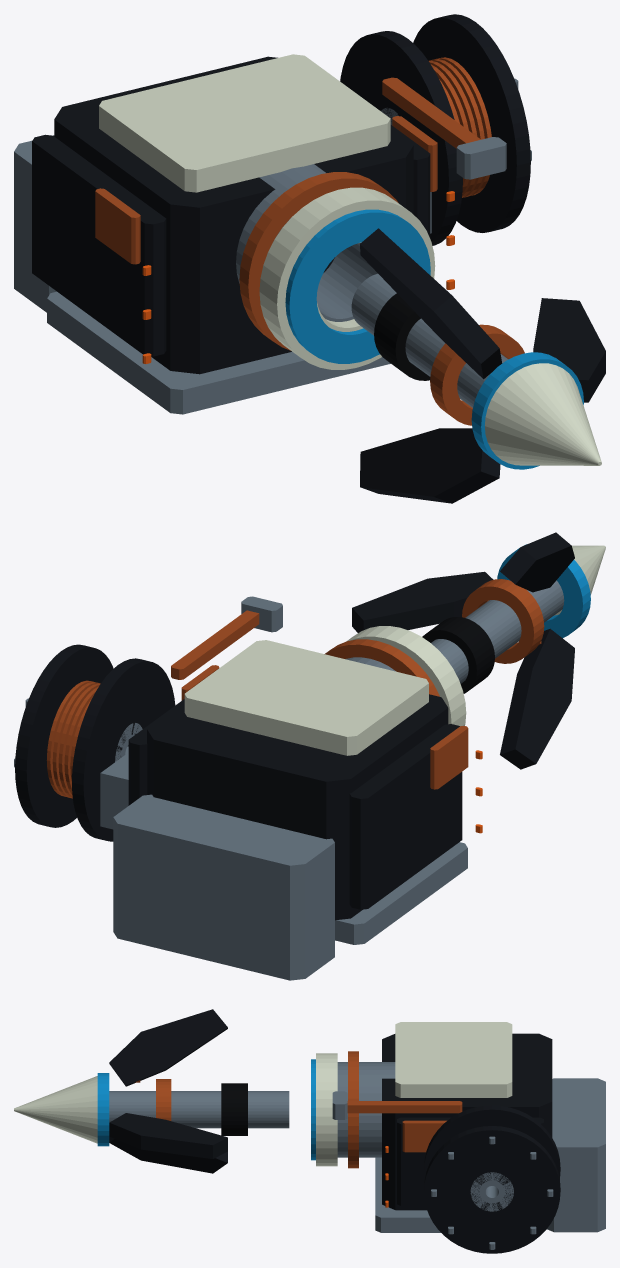
Rendered from M01-024_mechanical_anchor_harpoon.obj.
The picture shows the model from 3 angles, top to bottom: view 1: azimuth 30°, elevation 25°; view 2: azimuth 150°, elevation 25°; view 3: azimuth 270°, elevation 25°; orthographic projection. The views are drawn at different scales.
Visible parts, largest first — view 1: Receiver_Ceramic_Top, Receiver_Graphite_Core, Side_Armor_L, Receiver_Titanium_Bottom, Drum_Front_Flange, Harpoon_Piercing_Point, Guide_Cyan_Alignment, Drum_Rear_Flange, Anchor_Hook_03, Guide_Ceramic_Muzzle, Anchor_Hook_02, Guide_Copper_Lockring (+15 smaller); view 2: Mount_Front_Key, Receiver_Graphite_Core, Receiver_Ceramic_Top, Side_Armor_L, Drum_Rear_Flange, Drum_Front_Flange, Anchor_Hook_03, Anchor_Hook_01, Receiver_Titanium_Bottom, Harpoon_Extending_Shaft, Guide_Ceramic_Muzzle, Harpoon_Copper_Retention (+14 smaller); view 3: Drum_Front_Flange, Receiver_Ceramic_Top, Mount_Front_Key, Receiver_Graphite_Core, Harpoon_Extending_Shaft, Anchor_Hook_02, Anchor_Hook_01, Harpoon_Piercing_Point, Guide_Titanium_Sleeve, Drum_Rear_Flange, Guide_Ceramic_Muzzle, Side_Armor_R (+11 smaller).
Part boxes in pixels (left/top/right/bottom): Receiver_Ceramic_Top: left=99, top=54, right=390, bottom=192; Receiver_Graphite_Core: left=54, top=56, right=413, bottom=374; Side_Armor_L: left=32, top=134, right=166, bottom=356; Receiver_Titanium_Bottom: left=47, top=291, right=390, bottom=414; Drum_Front_Flange: left=413, top=14, right=530, bottom=232; Harpoon_Piercing_Point: left=485, top=363, right=601, bottom=465; Guide_Cyan_Alignment: left=285, top=209, right=430, bottom=363; Drum_Rear_Flange: left=340, top=31, right=462, bottom=245; Anchor_Hook_03: left=360, top=428, right=500, bottom=503; Guide_Ceramic_Muzzle: left=259, top=187, right=435, bottom=369; Anchor_Hook_02: left=360, top=228, right=502, bottom=379; Guide_Copper_Lockring: left=239, top=172, right=398, bottom=350; Mount_Front_Key: left=113, top=794, right=334, bottom=980; Receiver_Graphite_Core: left=147, top=694, right=448, bottom=920; Receiver_Ceramic_Top: left=184, top=640, right=428, bottom=755; Side_Armor_L: left=349, top=724, right=462, bottom=909; Drum_Rear_Flange: left=72, top=658, right=175, bottom=841; Drum_Front_Flange: left=15, top=644, right=113, bottom=827; Anchor_Hook_03: left=500, top=628, right=574, bottom=769; Anchor_Hook_01: left=352, top=571, right=493, bottom=632; Receiver_Titanium_Bottom: left=335, top=842, right=467, bottom=944; Harpoon_Extending_Shaft: left=431, top=580, right=564, bottom=683; Guide_Ceramic_Muzzle: left=346, top=626, right=466, bottom=726; Harpoon_Copper_Retention: left=462, top=579, right=544, bottom=663; Drum_Front_Flange: left=424, top=1126, right=560, bottom=1253; Receiver_Ceramic_Top: left=395, top=1022, right=512, bottom=1097; Mount_Front_Key: left=547, top=1078, right=605, bottom=1232; Receiver_Graphite_Core: left=382, top=1033, right=552, bottom=1210; Harpoon_Extending_Shaft: left=109, top=1091, right=289, bottom=1128; Anchor_Hook_02: left=109, top=1009, right=227, bottom=1086; Anchor_Hook_01: left=109, top=1113, right=227, bottom=1158; Harpoon_Piercing_Point: left=14, top=1076, right=97, bottom=1143; Guide_Titanium_Sleeve: left=337, top=1062, right=395, bottom=1157; Drum_Rear_Flange: left=424, top=1105, right=560, bottom=1178; Guide_Ceramic_Muzzle: left=316, top=1053, right=337, bottom=1166; Side_Armor_R: left=397, top=1117, right=543, bottom=1205.
Size of the model in its own units: 0.9093 by 0.5613 by 1.77.
